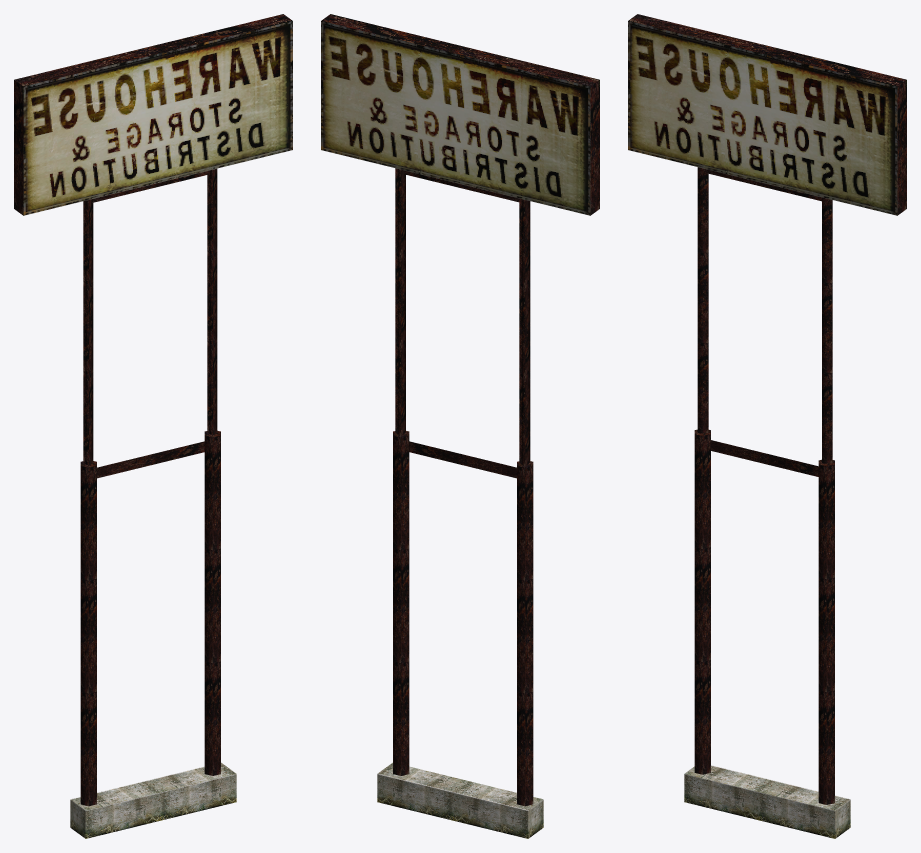
Rendered from wrhs_twinpole.fbx.
3 views of the same model, side by side, from view 1: azimuth 30°, elevation 25°; view 2: azimuth 150°, elevation 25°; view 3: azimuth 330°, elevation 25° (orthographic).
Visible parts, largest first — view 1: mesh_0; view 2: mesh_0; view 3: mesh_0.
Part boxes in pixels (box(x1,y1,x2,y2)): mesh_0: box(14, 14, 292, 838); mesh_0: box(321, 14, 599, 838); mesh_0: box(628, 14, 906, 838).
Bounding box in the file's own units: 499 × 1354 × 50.
1 material, 1 textured.
